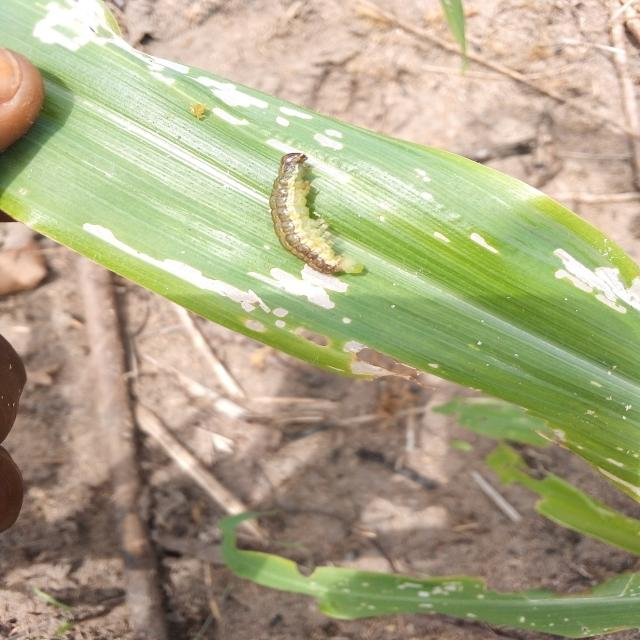yellow-stem-borer-larva: (244, 145, 380, 294)
